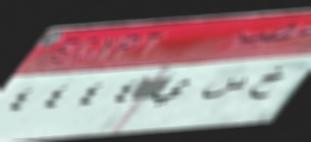4: (5, 85, 33, 116), (76, 78, 102, 111), (42, 83, 70, 113), (114, 74, 135, 106)
khaa: (251, 62, 287, 104)
seen: (201, 73, 248, 102)
yaa: (149, 79, 192, 107)
